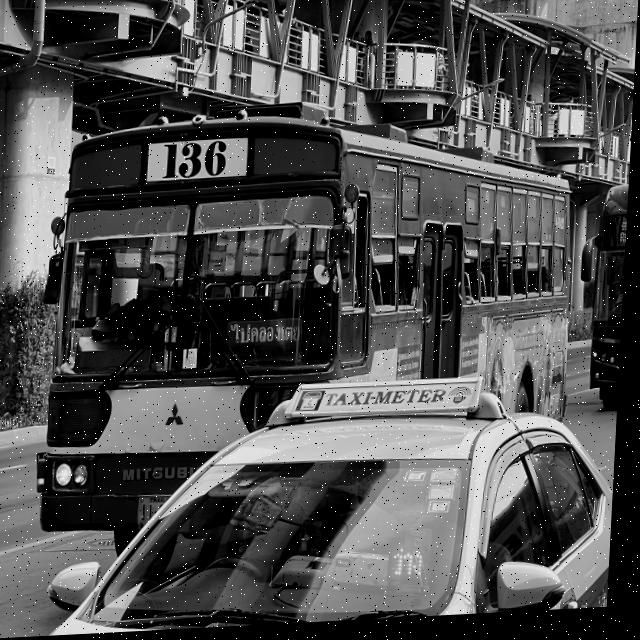BMTA-bus: (38, 95, 584, 548)
Bus-Line-Number: (159, 139, 234, 185)
Destination-Sign-Normal: (229, 320, 308, 370)
